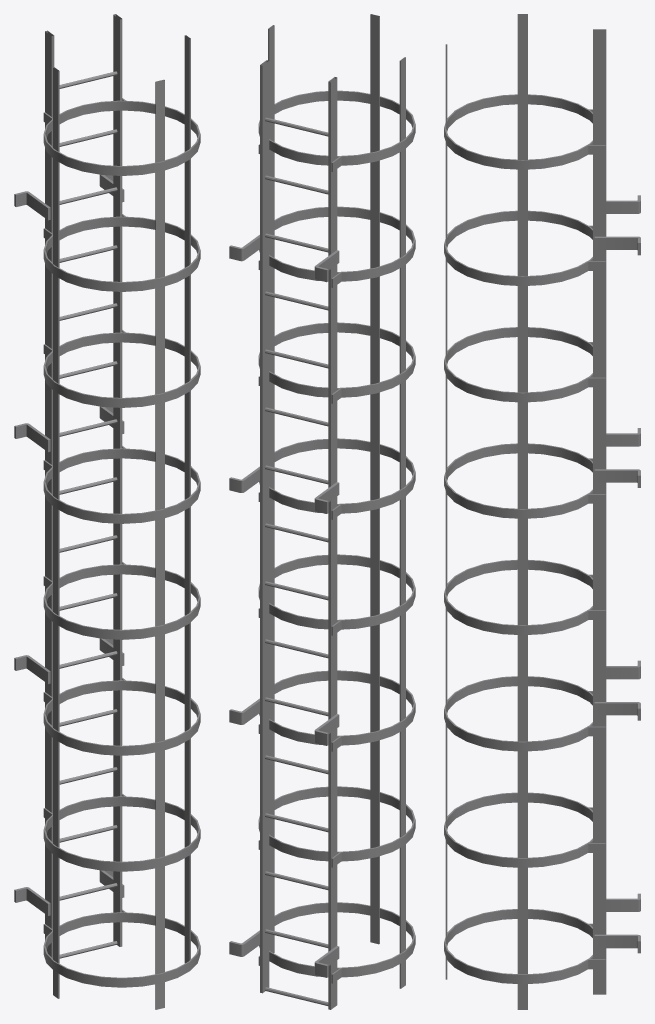
Rendered from SM06_Building_Ladder_01_Mid.fbx.
The picture shows the model from 3 angles, left to right: view 1: azimuth 30°, elevation 25°; view 2: azimuth 150°, elevation 25°; view 3: azimuth 270°, elevation 25°; orthographic projection.
Visible parts, largest first — view 1: SM06_Building_Ladder_01_Mid; view 2: SM06_Building_Ladder_01_Mid; view 3: SM06_Building_Ladder_01_Mid.
Part boxes in pixels (x1,y1,x2,y2): SM06_Building_Ladder_01_Mid: (14,14,200,1009); SM06_Building_Ladder_01_Mid: (229,14,415,1009); SM06_Building_Ladder_01_Mid: (444,14,640,1009).
Bounding box in the file's own units: 0.7661 × 5 × 0.9581.
